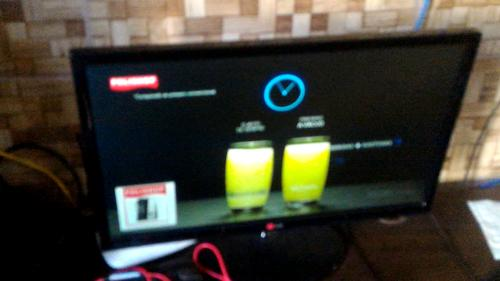Polishop #1: (114, 182, 177, 233)
